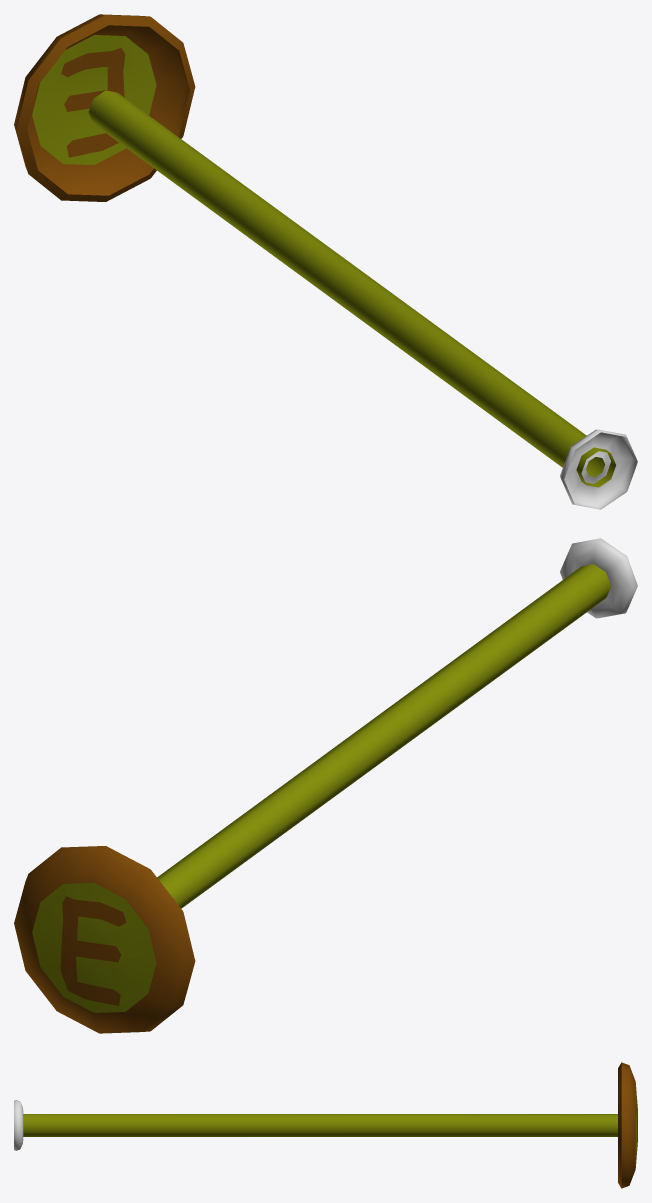
File: EndStick.fbx
The picture shows the model from 3 angles, top to bottom: view 1: azimuth 30°, elevation 25°; view 2: azimuth 150°, elevation 25°; view 3: azimuth 270°, elevation 25°; orthographic projection. The views are drawn at different scales.
Parts seen in each view (by area): view 1: EndStick, EndStickNob; view 2: EndStick, EndStickNob; view 3: EndStick, EndStickNob.
Part boxes in pixels (x1,y1,x2,y2): EndStick: (14, 14, 615, 487); EndStickNob: (560, 429, 637, 509); EndStick: (14, 564, 610, 1033); EndStickNob: (560, 538, 637, 618); EndStick: (23, 1062, 637, 1188); EndStickNob: (14, 1100, 23, 1150).
Size of the model in its own units: 105 by 105 by 515.
